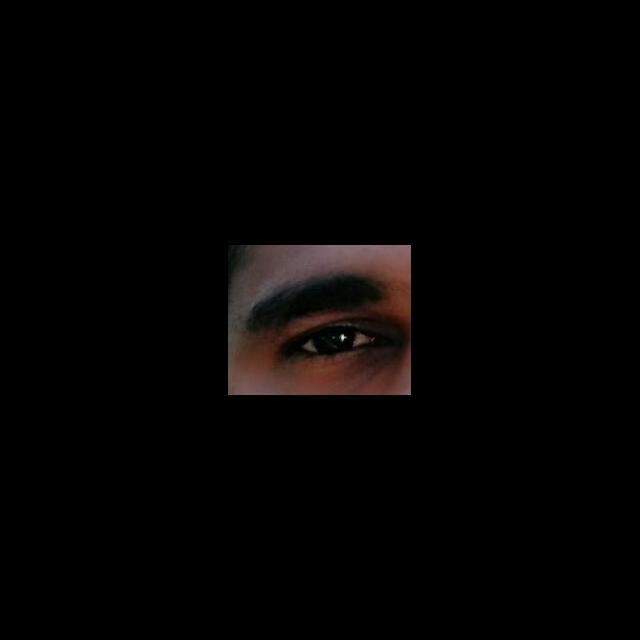eye: (300, 330, 371, 355)
iris: (314, 331, 356, 353)
